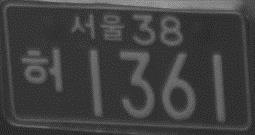1: (207, 51, 232, 123), (84, 47, 108, 119)
3: (117, 47, 158, 119), (129, 12, 157, 46)
6: (161, 52, 198, 121)
8: (157, 13, 183, 48)
서울_O: (70, 12, 126, 44)
허: (20, 48, 65, 94)
